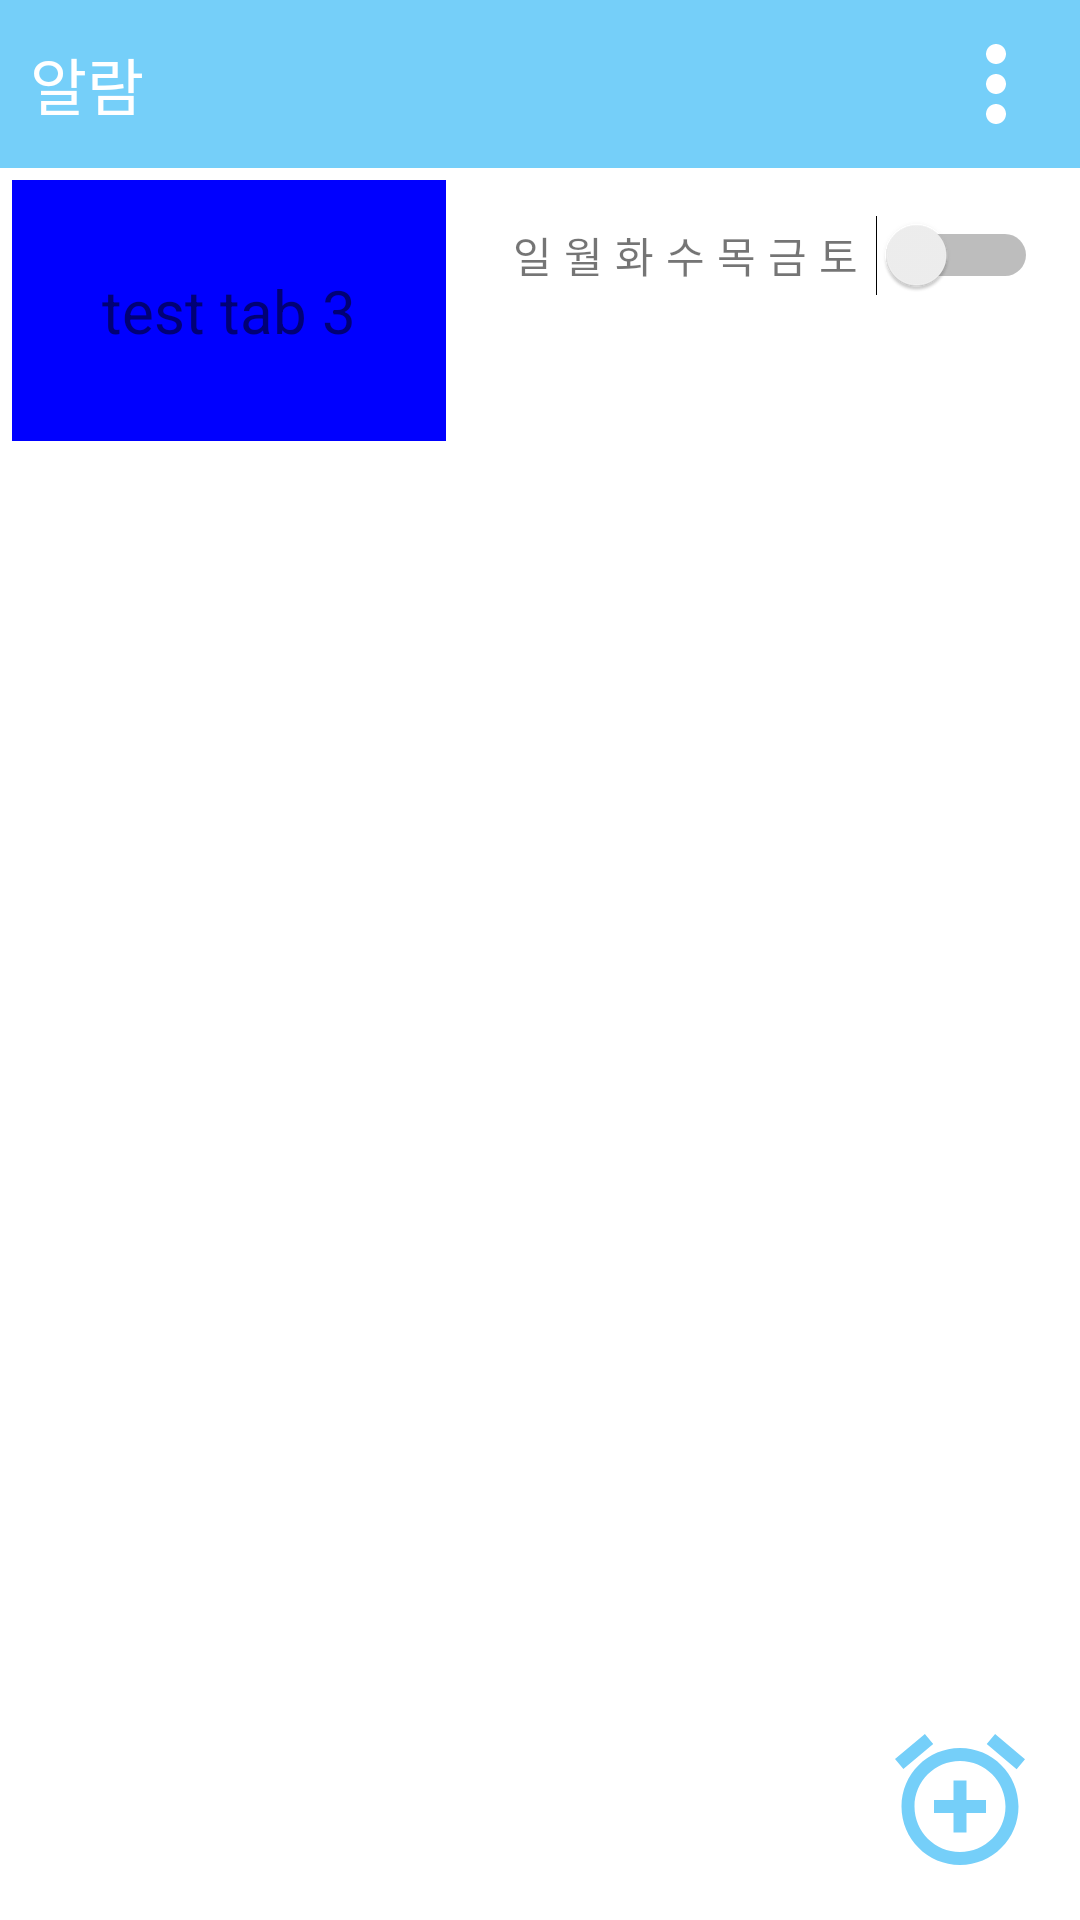

Locate icon controls on the screen. Image size 1080px x 1920px, boxes as (x1, y1, x2, y2).
add alarm: (895, 1734, 1025, 1865)
more: (986, 44, 1006, 124)
